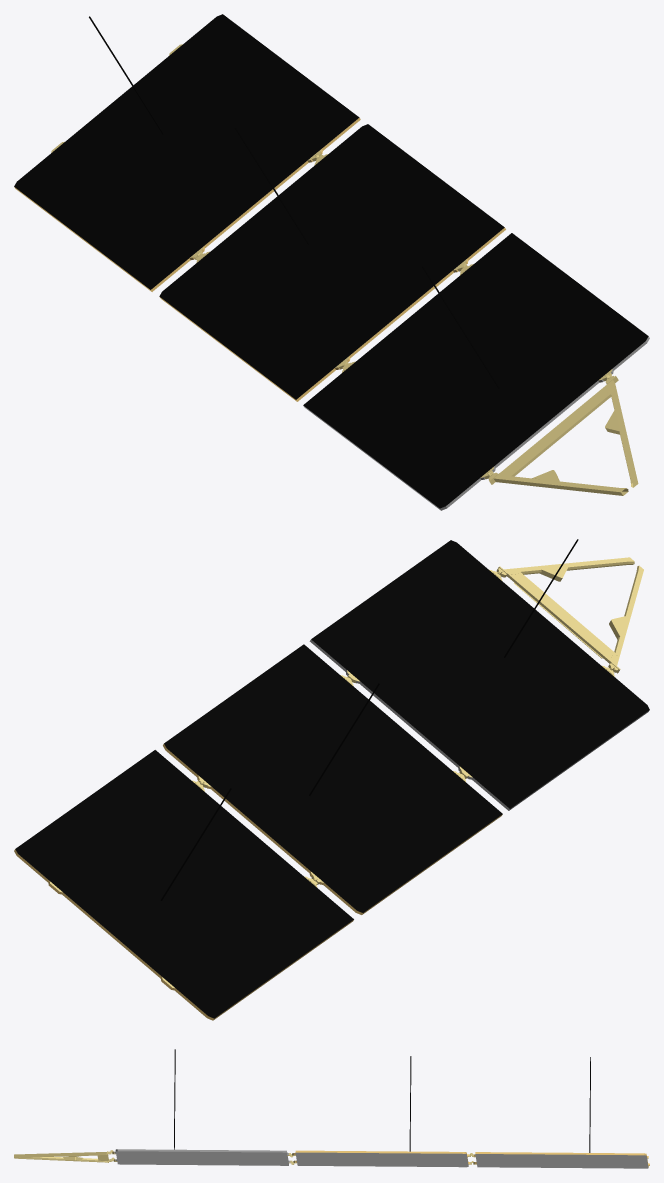
The model's file is left-wing.fbx.
The picture shows the model from 3 angles, top to bottom: view 1: azimuth 30°, elevation 25°; view 2: azimuth 150°, elevation 25°; view 3: azimuth 270°, elevation 25°; orthographic projection. The views are drawn at different scales.
Visible parts, largest first — view 1: entire_spacecraft; view 2: entire_spacecraft; view 3: entire_spacecraft.
Boxes of the visible parts, x1,y1,x2,y2 form: entire_spacecraft: [14, 14, 649, 510]; entire_spacecraft: [14, 539, 649, 1020]; entire_spacecraft: [14, 1049, 649, 1168].
Bounding box in the file's own units: 29.84 × 26.68 × 124.
